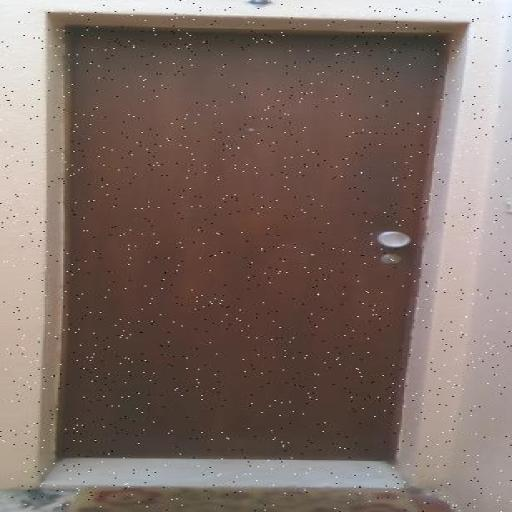door: (26, 8, 476, 492)
